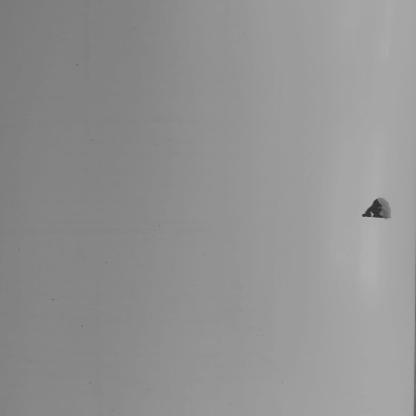kongdong: (362, 188, 398, 226)
